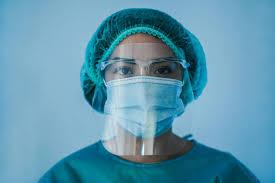cap: (80, 4, 212, 113)
mask: (104, 76, 190, 141)
